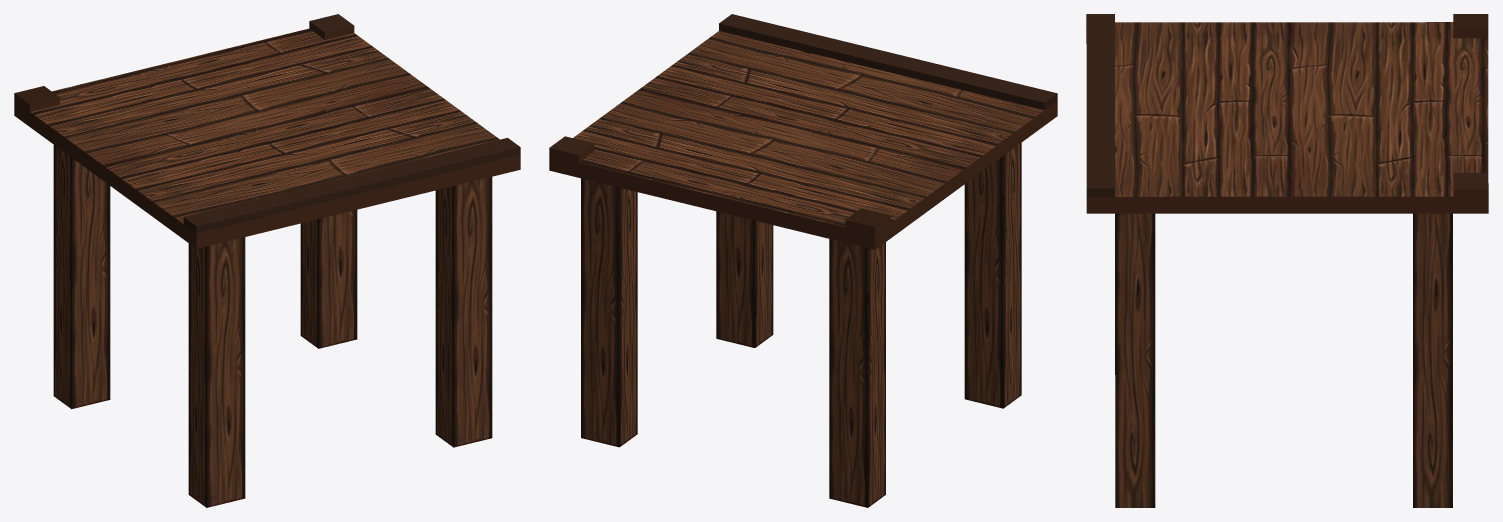
Rendered from Harbor Floor 3.fbx.
3 views of the same model, side by side, from view 1: azimuth 30°, elevation 25°; view 2: azimuth 150°, elevation 25°; view 3: azimuth 270°, elevation 25° (orthographic). The views are drawn at different scales.
Parts seen in each view (by area): view 1: pasted__pasted__polySurface5; view 2: pasted__pasted__polySurface5; view 3: pasted__pasted__polySurface5.
Part boxes in pixels (box(x1,y1,x2,y2)): pasted__pasted__polySurface5: box(14, 14, 520, 507); pasted__pasted__polySurface5: box(549, 14, 1057, 507); pasted__pasted__polySurface5: box(1086, 14, 1488, 507).
Size of the model in its own units: 7.31 by 6.39 by 7.11.
1 material, 1 textured.
